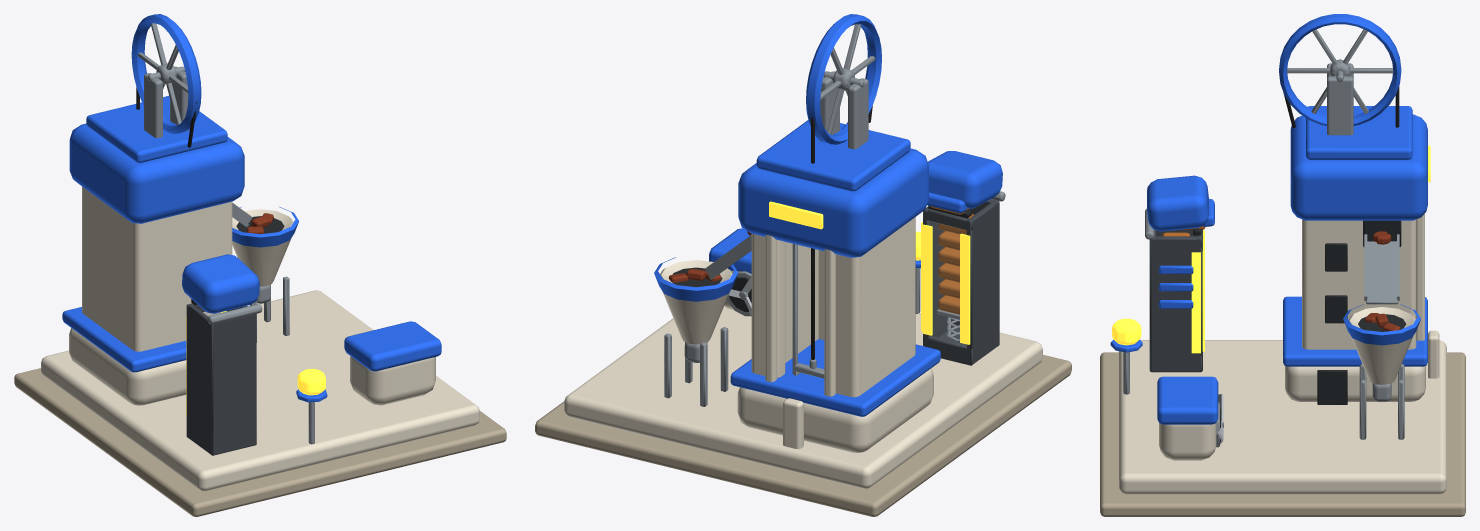
The model's file is deep_mine_iron.glb.
3 views of the same model, side by side, from view 1: azimuth 30°, elevation 25°; view 2: azimuth 150°, elevation 25°; view 3: azimuth 270°, elevation 25° (orthographic). The views are drawn at different scales.
Visible parts, largest first — view 1: stage_1__M_CreamPlastic, stage_2__M_CreamPlastic, stage_3__M_Team, stage_0__M_SugarPad, stage_2__M_SmokePlastic, stage_1__M_Team, dm_head__M_Team, dm_sheave__M_Team, stage_3__M_SpringSteel, stage_2__M_SpringSteel, dm_sheave__M_SpringSteel, stage_2__M_Team (+1 smaller); view 2: stage_1__M_CreamPlastic, stage_2__M_CreamPlastic, stage_3__M_Team, stage_0__M_SugarPad, stage_2__M_SmokePlastic, stage_1__M_Team, stage_2__M_SpringSteel, dm_head__M_Team, dm_sheave__M_Team, stage_2__M_ClearGlass, dm_warn__M_E_Amber, stage_3__M_SpringSteel (+4 smaller); view 3: stage_1__M_CreamPlastic, stage_3__M_Team, stage_0__M_SugarPad, stage_2__M_CreamPlastic, stage_1__M_Team, stage_2__M_SmokePlastic, stage_2__M_SpringSteel, dm_head__M_Team, dm_sheave__M_Team, stage_2__M_Dark, stage_2__M_Team, stage_3__M_SpringSteel (+4 smaller).
Boxes of the visible parts, left/top/right/bottom form: stage_1__M_CreamPlastic: left=41, top=290, right=479, bottom=491; stage_2__M_CreamPlastic: left=82, top=186, right=293, bottom=351; stage_3__M_Team: left=69, top=96, right=244, bottom=223; stage_0__M_SugarPad: left=14, top=368, right=506, bottom=516; stage_2__M_SmokePlastic: left=186, top=303, right=256, bottom=455; stage_1__M_Team: left=62, top=307, right=441, bottom=372; dm_head__M_Team: left=182, top=254, right=259, bottom=313; dm_sheave__M_Team: left=131, top=14, right=201, bottom=133; stage_3__M_SpringSteel: left=144, top=66, right=188, bottom=138; stage_2__M_SpringSteel: left=232, top=202, right=314, bottom=444; dm_sheave__M_SpringSteel: left=137, top=23, right=188, bottom=125; stage_2__M_Team: left=232, top=207, right=298, bottom=247; stage_1__M_CreamPlastic: left=564, top=271, right=1042, bottom=488; stage_2__M_CreamPlastic: left=660, top=217, right=915, bottom=397; stage_3__M_Team: left=738, top=120, right=928, bottom=257; stage_0__M_SugarPad: left=535, top=355, right=1071, bottom=516; stage_2__M_SmokePlastic: left=923, top=199, right=999, bottom=365; stage_1__M_Team: left=709, top=228, right=940, bottom=416; stage_2__M_SpringSteel: left=664, top=235, right=920, bottom=406; dm_head__M_Team: left=927, top=151, right=1002, bottom=213; dm_sheave__M_Team: left=806, top=14, right=881, bottom=144; stage_2__M_ClearGlass: left=929, top=221, right=965, bottom=345; dm_warn__M_E_Amber: left=921, top=222, right=970, bottom=344; stage_3__M_SpringSteel: left=819, top=71, right=868, bottom=149; stage_1__M_CreamPlastic: left=1119, top=330, right=1446, bottom=494; stage_3__M_Team: left=1290, top=106, right=1427, bottom=220; stage_0__M_SugarPad: left=1100, top=352, right=1465, bottom=516; stage_2__M_CreamPlastic: left=1302, top=213, right=1424, bottom=384; stage_1__M_Team: left=1157, top=296, right=1427, bottom=424; stage_2__M_SmokePlastic: left=1149, top=230, right=1202, bottom=372; stage_2__M_SpringSteel: left=1123, top=234, right=1404, bottom=439; dm_head__M_Team: left=1147, top=175, right=1214, bottom=231; dm_sheave__M_Team: left=1279, top=14, right=1401, bottom=125; stage_2__M_Dark: left=1193, top=220, right=1405, bottom=331; stage_2__M_Team: left=1159, top=265, right=1420, bottom=345; stage_3__M_SpringSteel: left=1327, top=59, right=1353, bottom=135.
Bounding box in the file's own units: 1.92 × 2.28 × 1.92.
